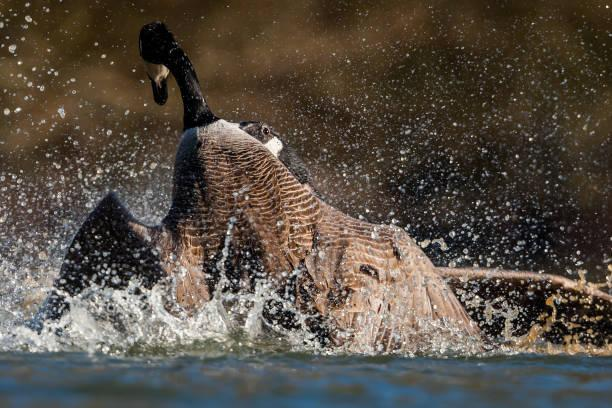Canadian-Goose: (40, 23, 489, 350)
